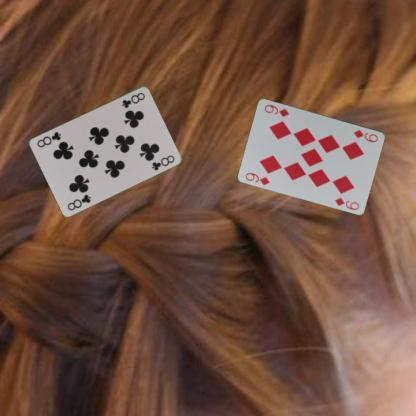8c: (119, 90, 146, 110), (65, 192, 92, 212)
9d: (242, 170, 272, 186), (351, 127, 380, 143)
